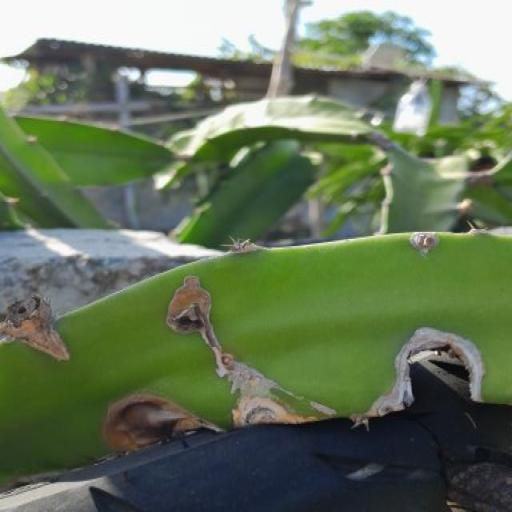stemcanker: (399, 222, 453, 265)
